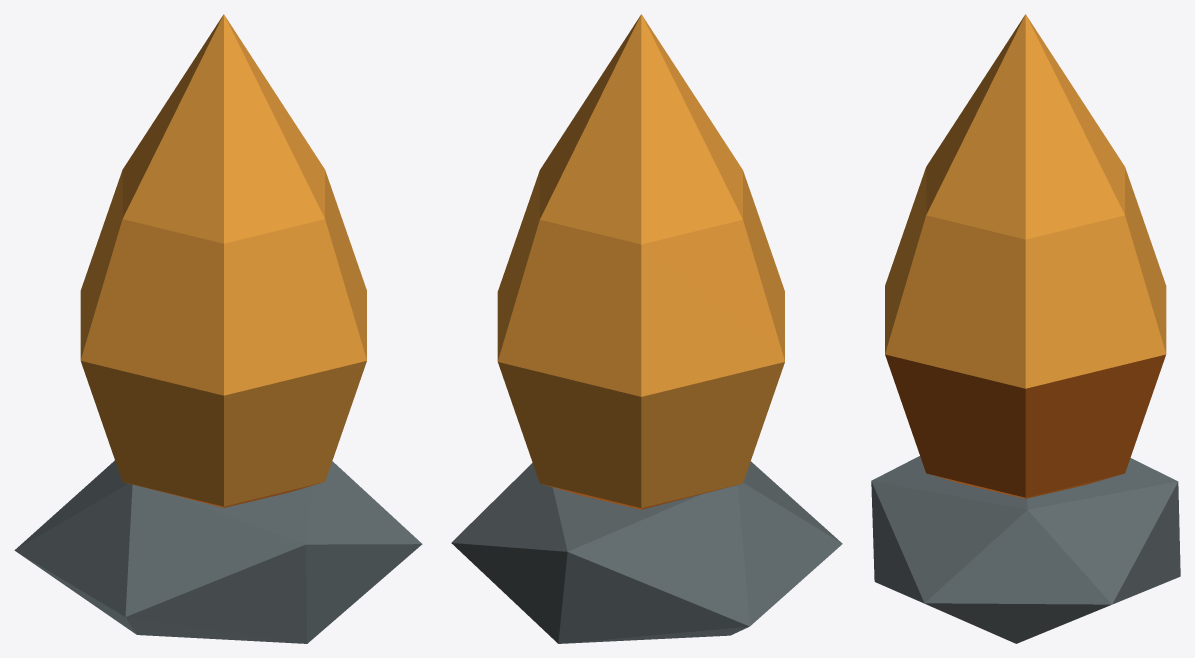
The model's file is food_amber_a.obj.
3 renders of one model, left to right at view 1: azimuth 30°, elevation 25°; view 2: azimuth 150°, elevation 25°; view 3: azimuth 270°, elevation 25°, orthographic. The views are drawn at different scales.
Visible parts, largest first — view 1: food_amber_a; view 2: food_amber_a; view 3: food_amber_a.
Part boxes in pixels (bbox=[...]): food_amber_a: bbox=[14, 14, 422, 643]; food_amber_a: bbox=[451, 14, 842, 643]; food_amber_a: bbox=[871, 14, 1180, 643].
Size of the model in its own units: 1.07 by 2 by 0.9526.
